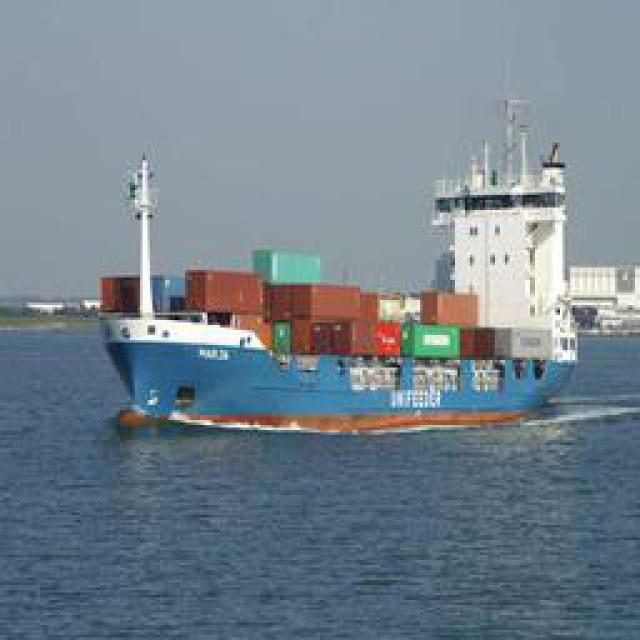Ship: (107, 100, 585, 425)
